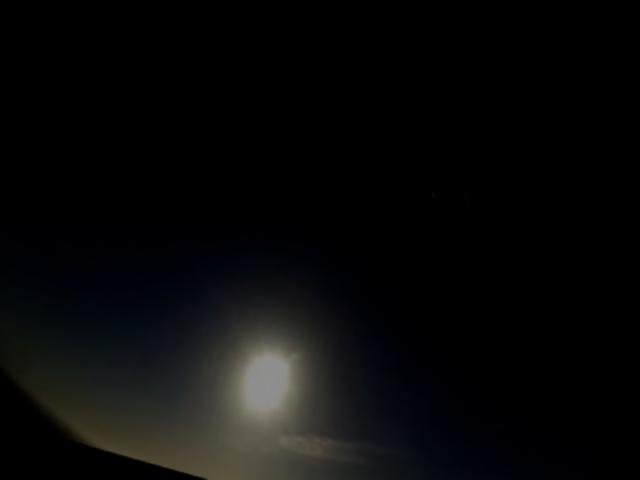uav: (426, 124, 517, 221)
